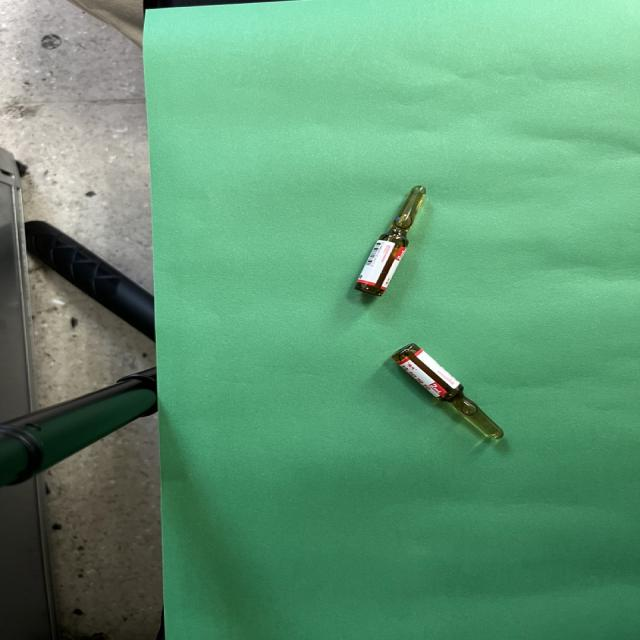Ampoules: (392, 343, 503, 440), (356, 186, 425, 295)
